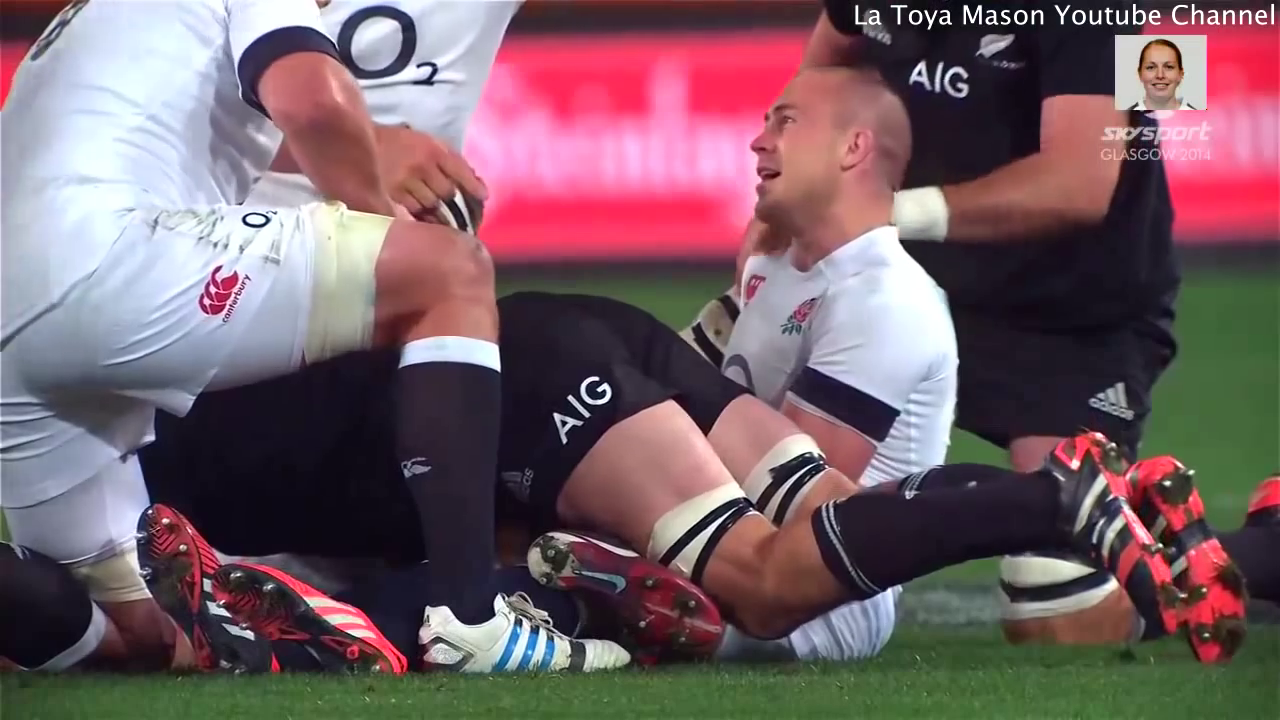player: (1, 1, 635, 672), (804, 1, 1280, 658), (499, 268, 1243, 653), (713, 73, 937, 664)
